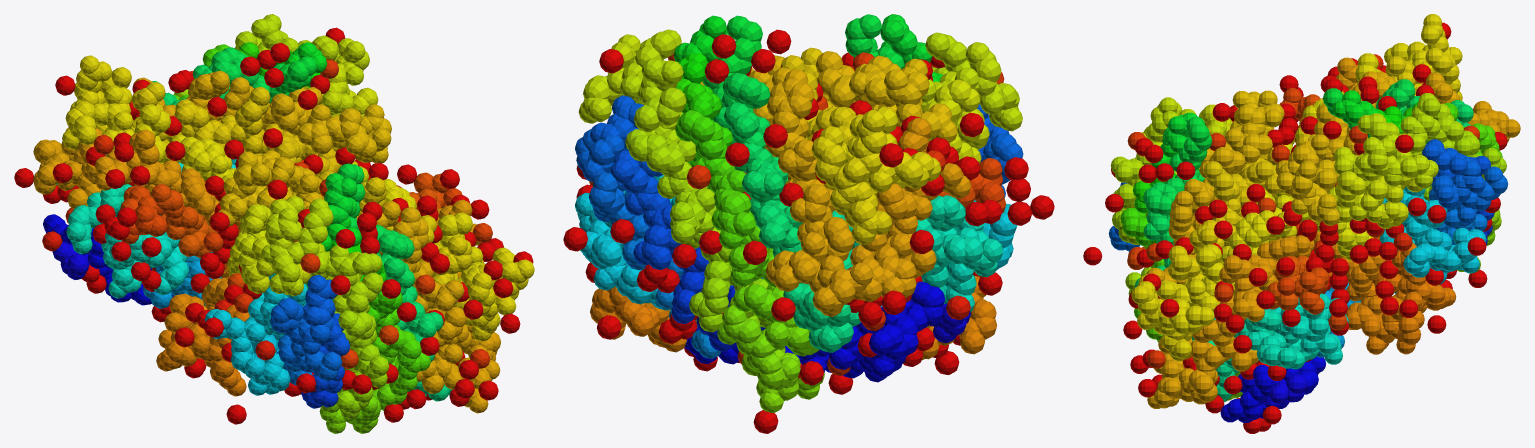
The model's file is 1gfl__spheres__rainbow.glb.
3 views of the same model, side by side, from view 1: azimuth 30°, elevation 25°; view 2: azimuth 150°, elevation 25°; view 3: azimuth 270°, elevation 25° (orthographic). The views are drawn at different scales.
Parts seen in each view (by area): view 1: Renderer Node; view 2: Renderer Node; view 3: Renderer Node.
Boxes of the visible parts, bbox=[...] form: Renderer Node: bbox=[14, 14, 534, 433]; Renderer Node: bbox=[563, 14, 1054, 433]; Renderer Node: bbox=[1083, 14, 1520, 433].
Size of the model in its own units: 64.21 by 56.48 by 69.87.
